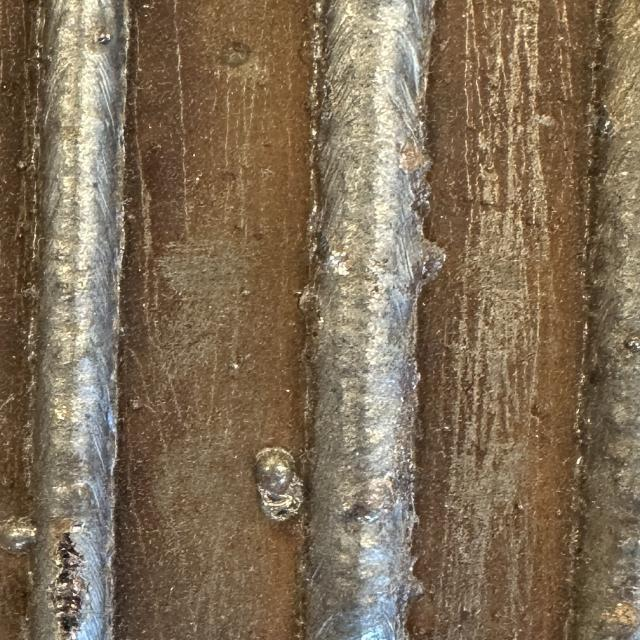Excess Reinforcement: (422, 239, 447, 285)
Spatters: (257, 448, 303, 521), (0, 516, 37, 554), (623, 336, 640, 352), (97, 32, 111, 45)
